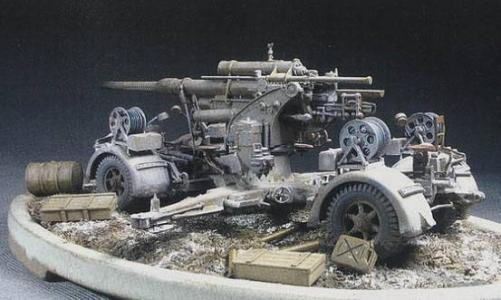MIL_SPG: (69, 46, 484, 260)
